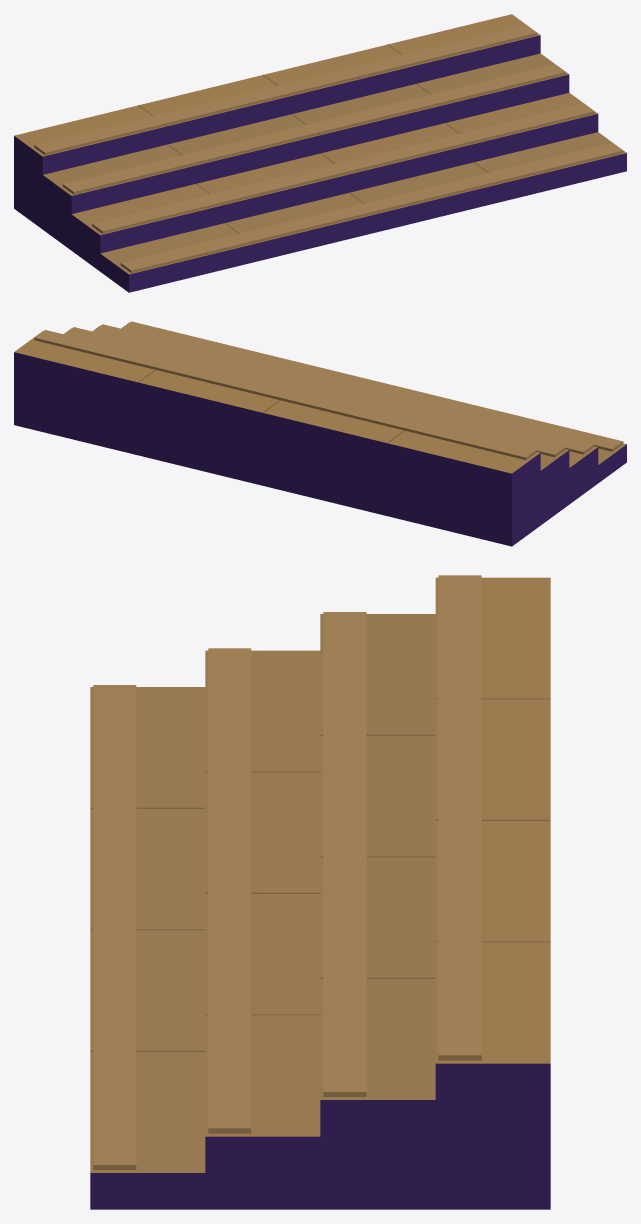
Rendered from seat.bleacher.purple.glb.
3 views of the same model, one above another, from view 1: azimuth 30°, elevation 25°; view 2: azimuth 150°, elevation 25°; view 3: azimuth 270°, elevation 25° (orthographic). The views are drawn at different scales.
Parts seen in each view (by area): view 1: seat_bleacher_purple; view 2: seat_bleacher_purple; view 3: seat_bleacher_purple.
Part boxes in pixels (x1,y1,x2,y2): seat_bleacher_purple: [14, 14, 626, 292]; seat_bleacher_purple: [14, 321, 626, 546]; seat_bleacher_purple: [90, 575, 550, 1209].
Size of what is drawn, in the model's own units: 8 by 1.16 by 3.2.
